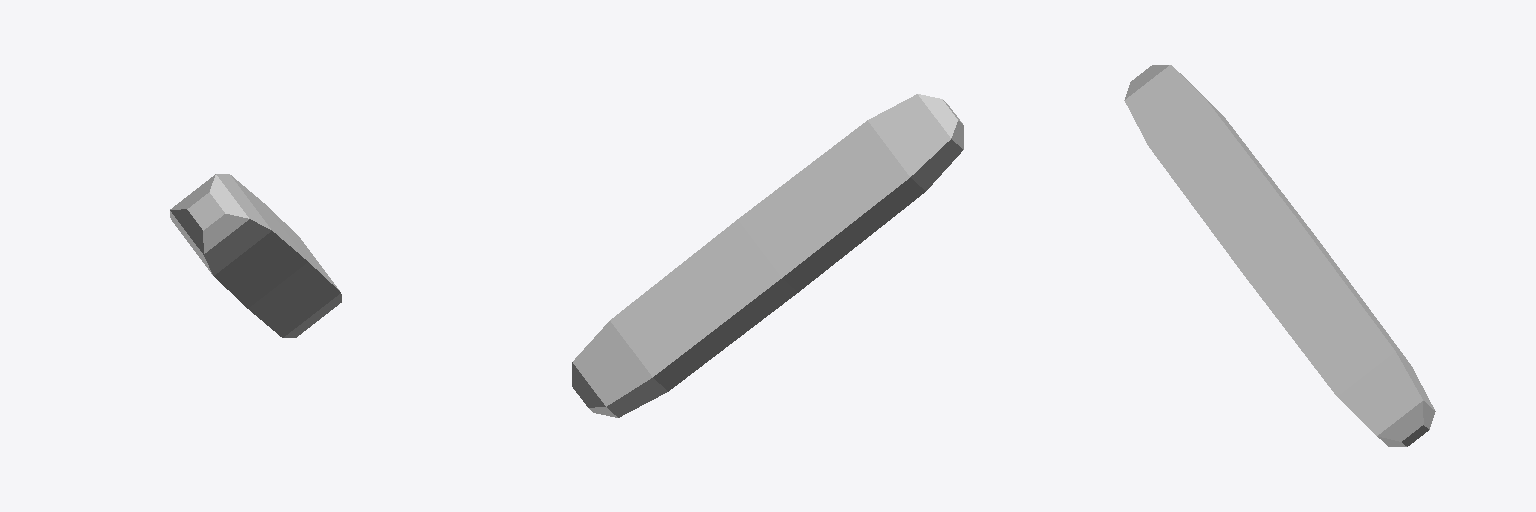
The model's file is right_hand_cp_1_jointendsite.obj.
The picture shows the model from 3 angles: view 1: azimuth 30°, elevation 25°; view 2: azimuth 150°, elevation 25°; view 3: azimuth 270°, elevation 25°; orthographic projection.
Visible parts, largest first — view 1: ../rami/model/right_hand_cp_1_jointendsite; view 2: ../rami/model/right_hand_cp_1_jointendsite; view 3: ../rami/model/right_hand_cp_1_jointendsite.
Part boxes in pixels (x1,y1,x2,y2): ../rami/model/right_hand_cp_1_jointendsite: (170, 174, 341, 337); ../rami/model/right_hand_cp_1_jointendsite: (572, 94, 963, 417); ../rami/model/right_hand_cp_1_jointendsite: (1124, 65, 1435, 446).
Size of the model in its own units: 0.0011 by 0.0012 by 0.0011.